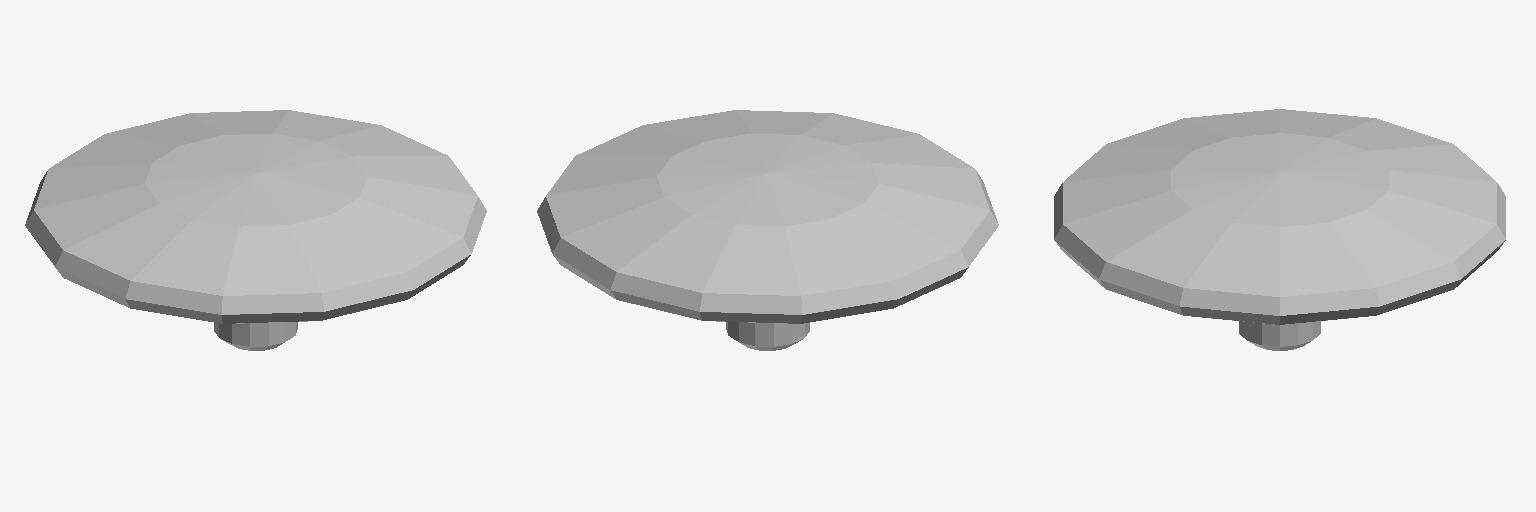
Rendered from Shroom.obj.
3 views of the same model, side by side, from view 1: azimuth 30°, elevation 25°; view 2: azimuth 150°, elevation 25°; view 3: azimuth 270°, elevation 25° (orthographic).
Parts seen in each view (by area): view 1: Shroom; view 2: Shroom; view 3: Shroom.
Boxes of the visible parts, <box> form: Shroom: <box>25,110,486,350</box>; Shroom: <box>537,110,998,350</box>; Shroom: <box>1054,109,1505,350</box>.
Bounding box in the file's own units: 4.55 × 1.79 × 4.43.